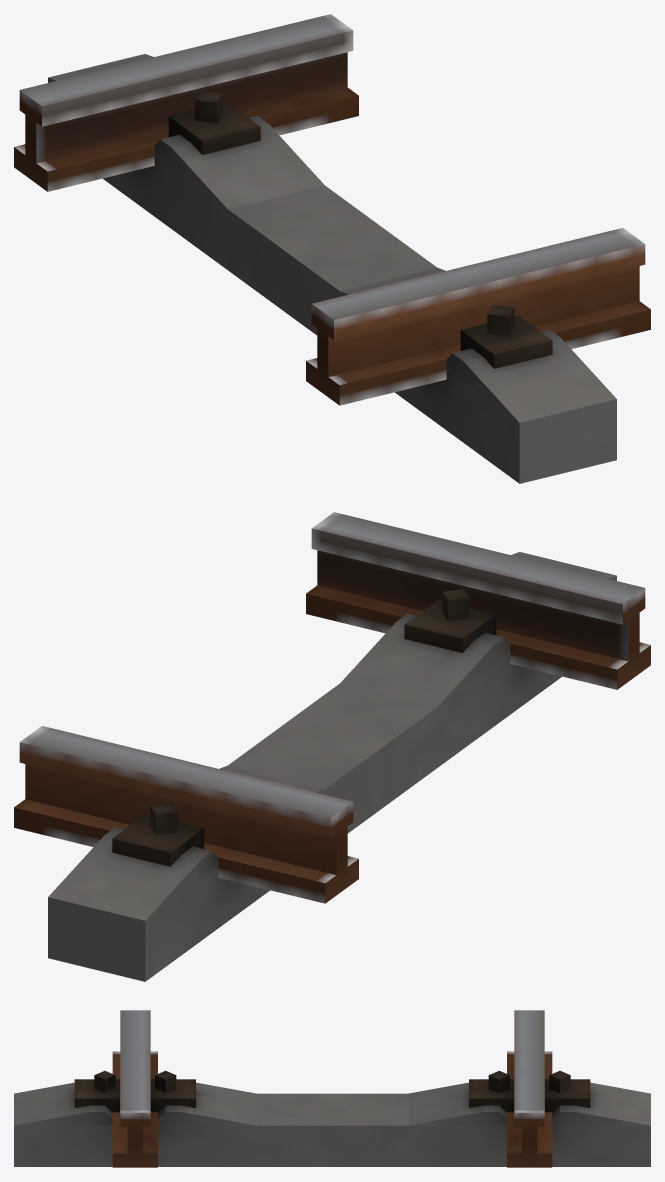
The model's file is mvp_ir_cncrtrail.obj.
The picture shows the model from 3 angles, top to bottom: view 1: azimuth 30°, elevation 25°; view 2: azimuth 150°, elevation 25°; view 3: azimuth 270°, elevation 25°; orthographic projection. The views are drawn at different scales.
Visible parts, largest first — view 1: RAIL_BASE_mvpRail, RAIL_RIGHT_mvpRail, RAIL_LEFT_mvpRail; view 2: RAIL_BASE_mvpRail, RAIL_LEFT_mvpRail, RAIL_RIGHT_mvpRail; view 3: RAIL_BASE_mvpRail, RAIL_LEFT_mvpRail, RAIL_RIGHT_mvpRail.
Part boxes in pixels (bbox=[...]): RAIL_BASE_mvpRail: bbox=[48, 54, 616, 483]; RAIL_RIGHT_mvpRail: bbox=[14, 14, 358, 191]; RAIL_LEFT_mvpRail: bbox=[306, 228, 650, 405]; RAIL_BASE_mvpRail: bbox=[48, 552, 616, 981]; RAIL_LEFT_mvpRail: bbox=[306, 512, 650, 689]; RAIL_RIGHT_mvpRail: bbox=[14, 726, 358, 903]; RAIL_BASE_mvpRail: bbox=[14, 1070, 650, 1166]; RAIL_LEFT_mvpRail: bbox=[112, 1010, 157, 1167]; RAIL_RIGHT_mvpRail: bbox=[507, 1010, 552, 1167].
Size of the model in its own units: 1 by 0.4062 by 2.63.
Materials: 1 (1 with a texture image).
